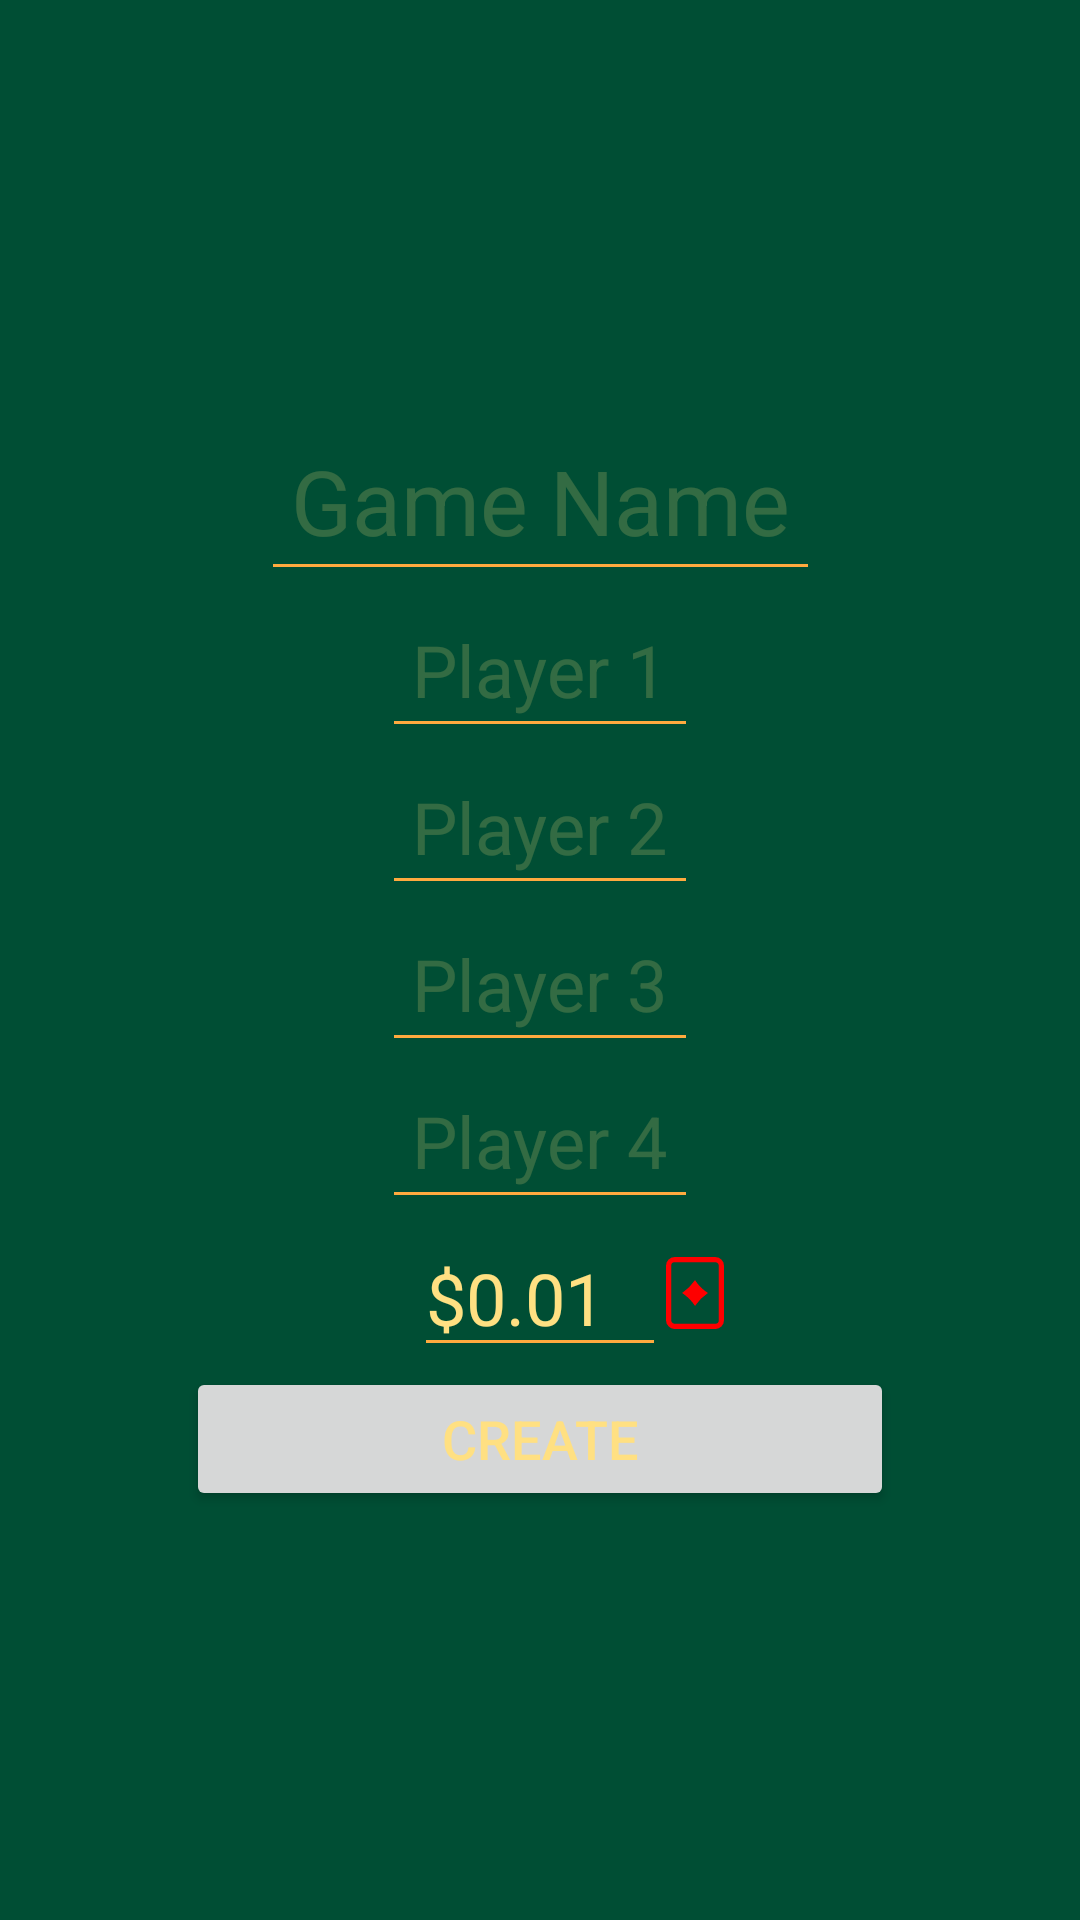

Icon bounding boxes for this 1080 × 1920 phone screenshot, format (x1, y1, x2, y2):
playing card diamond: (666, 1257, 724, 1329)
